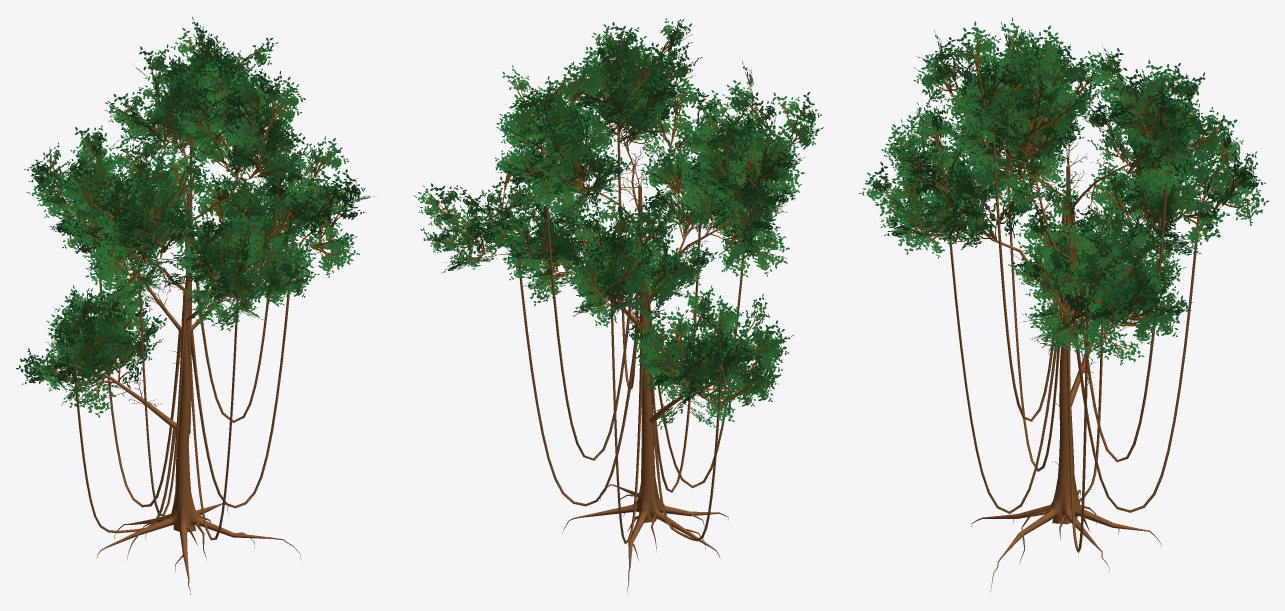
Rendered from Tree_2.fbx.
3 renders of one model, left to right at view 1: azimuth 30°, elevation 25°; view 2: azimuth 150°, elevation 25°; view 3: azimuth 270°, elevation 25°, orthographic. The views are drawn at different scales.
Parts seen in each view (by area): view 1: Leaf, Trunk.001; view 2: Leaf, Trunk.001; view 3: Leaf, Trunk.001.
Part boxes in pixels (left/top/right/bottom): Leaf: left=16, top=16, right=376, bottom=479; Trunk.001: left=49, top=54, right=344, bottom=595; Leaf: left=414, top=18, right=823, bottom=429; Trunk.001: left=438, top=42, right=793, bottom=592; Leaf: left=859, top=17, right=1268, bottom=464; Trunk.001: left=890, top=57, right=1237, bottom=591.
Size of the model in its own units: 1050 by 1484 by 1016.
